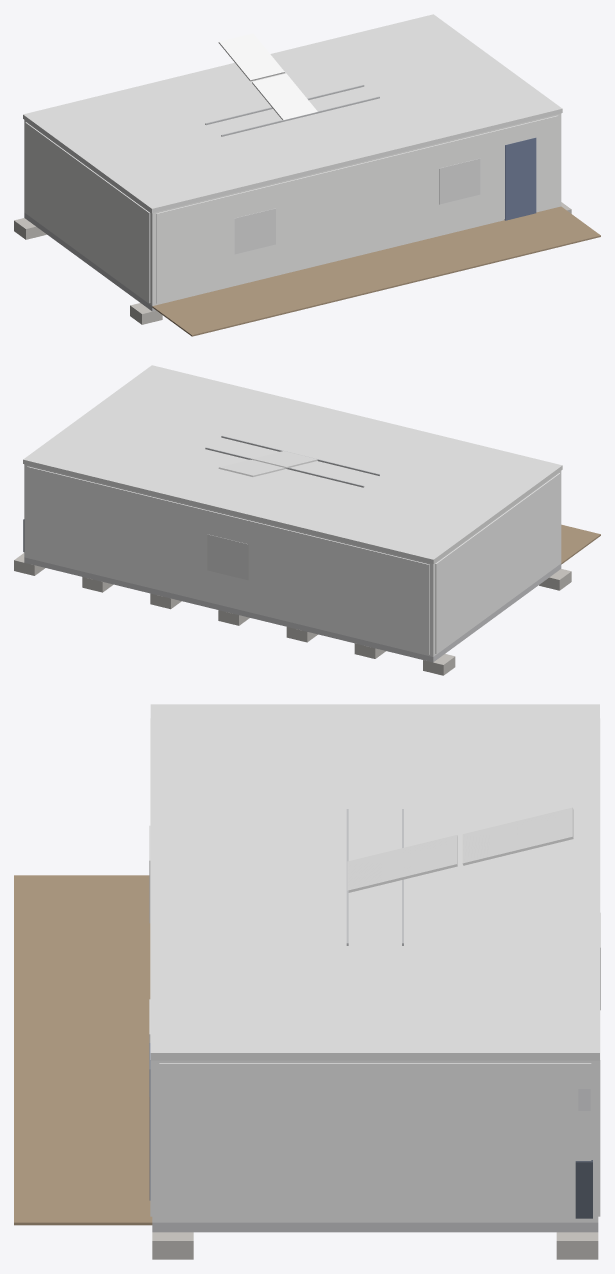
Rendered from Studio-40-FullSolar+TerraceDeck-LOD1.glb.
The picture shows the model from 3 angles, top to bottom: view 1: azimuth 30°, elevation 25°; view 2: azimuth 150°, elevation 25°; view 3: azimuth 270°, elevation 25°; orthographic projection. The views are drawn at different scales.
Parts seen in each view (by area): view 1: RoofMain, ExteriorPanelsStandard, TerraceDeck, SolarPanelArray, WindowsStandard, ExteriorShell, EntryDoor, FoundationBlocks, BaseFrame, SolarMountingHardware; view 2: RoofMain, ExteriorPanelsStandard, BaseFrame, ExteriorShell, FoundationBlocks, WindowsStandard, SolarPanelArray, TerraceDeck, SolarMountingHardware; view 3: RoofMain, ExteriorPanelsStandard, TerraceDeck, SolarPanelArray, ExteriorShell, BaseFrame, FoundationBlocks, SolarBattery.
Part boxes in pixels (<box>): RoofMain: <box>23,14,562,212</box>; ExteriorPanelsStandard: <box>25,115,558,303</box>; TerraceDeck: <box>152,206,600,336</box>; SolarPanelArray: <box>218,33,317,119</box>; WindowsStandard: <box>234,158,480,254</box>; ExteriorShell: <box>24,113,561,305</box>; EntryDoor: <box>504,137,536,220</box>; FoundationBlocks: <box>14,202,571,324</box>; BaseFrame: <box>24,213,155,311</box>; SolarMountingHardware: <box>205,85,379,136</box>; RoofMain: <box>23,365,562,563</box>; ExteriorPanelsStandard: <box>27,466,560,654</box>; BaseFrame: <box>24,557,561,662</box>; ExteriorShell: <box>24,464,561,656</box>; FoundationBlocks: <box>14,553,571,675</box>; WindowsStandard: <box>207,534,248,580</box>; SolarPanelArray: <box>218,451,317,476</box>; TerraceDeck: <box>561,524,600,564</box>; SolarMountingHardware: <box>205,435,379,487</box>; RoofMain: <box>150,704,599,1060</box>; ExteriorPanelsStandard: <box>150,718,600,1220</box>; TerraceDeck: <box>14,875,152,1225</box>; SolarPanelArray: <box>347,807,573,892</box>; ExteriorShell: <box>152,1060,598,1222</box>; BaseFrame: <box>152,1222,598,1232</box>; FoundationBlocks: <box>152,1232,598,1259</box>; SolarBattery: <box>575,1160,592,1218</box>.
Size of the model in its own units: 12.49 by 4.07 by 8.49.
